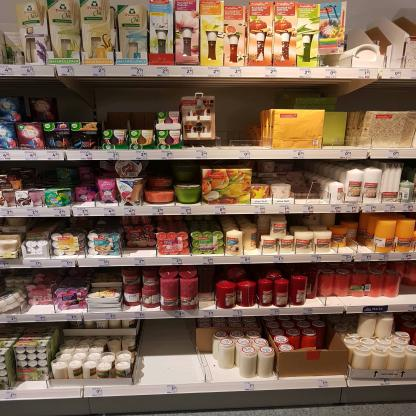Void: (270, 83, 413, 111), (216, 87, 261, 145), (149, 323, 190, 373), (108, 83, 178, 108), (55, 82, 97, 118), (27, 163, 53, 184), (203, 269, 215, 305), (130, 246, 158, 257)
